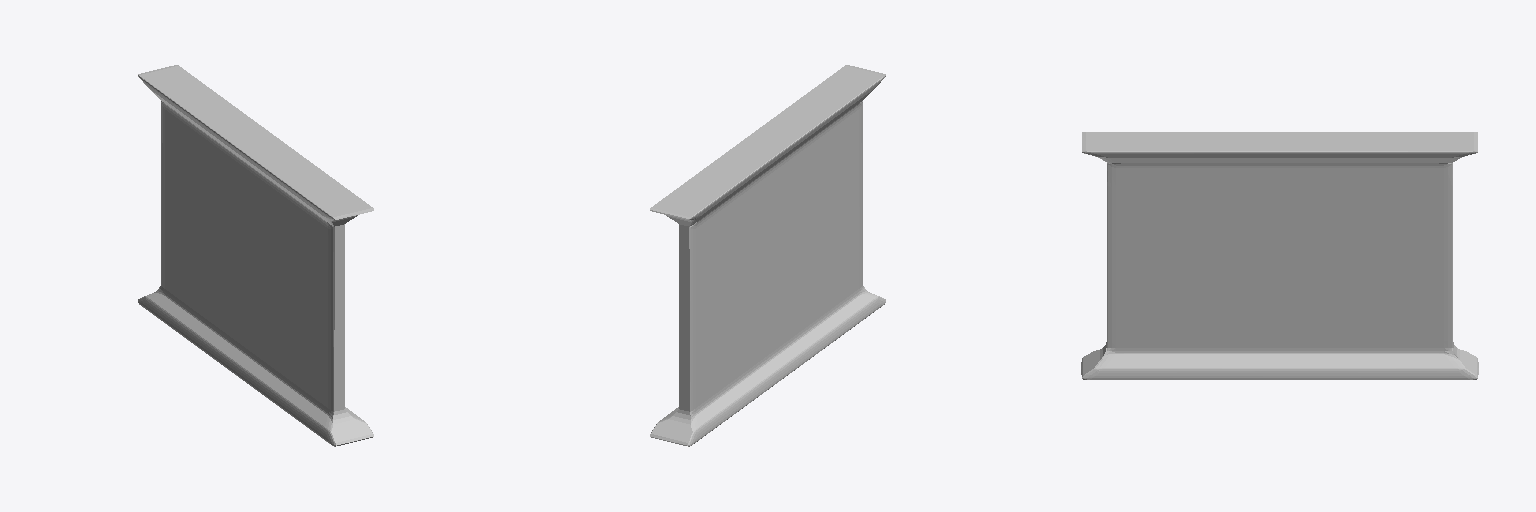
The model's file is wall2.obj.
3 views of the same model, side by side, from view 1: azimuth 30°, elevation 25°; view 2: azimuth 150°, elevation 25°; view 3: azimuth 270°, elevation 25° (orthographic).
Parts seen in each view (by area): view 1: Cube_Cube.001; view 2: Cube_Cube.001; view 3: Cube_Cube.001.
Boxes of the visible parts, <box> form: Cube_Cube.001: <box>138,65,373,446</box>; Cube_Cube.001: <box>650,65,885,446</box>; Cube_Cube.001: <box>1081,132,1478,379</box>.
Size of the model in its own units: 0.8013 by 4.28 by 6.73.